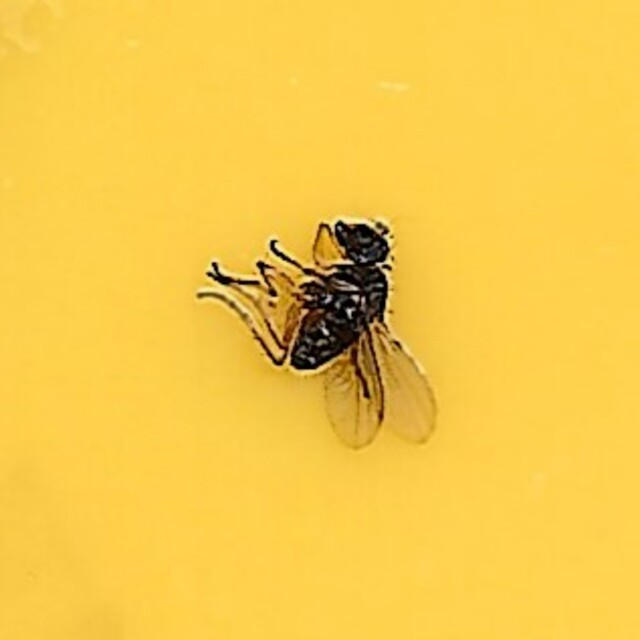Brachycera: (202, 202, 438, 438)
